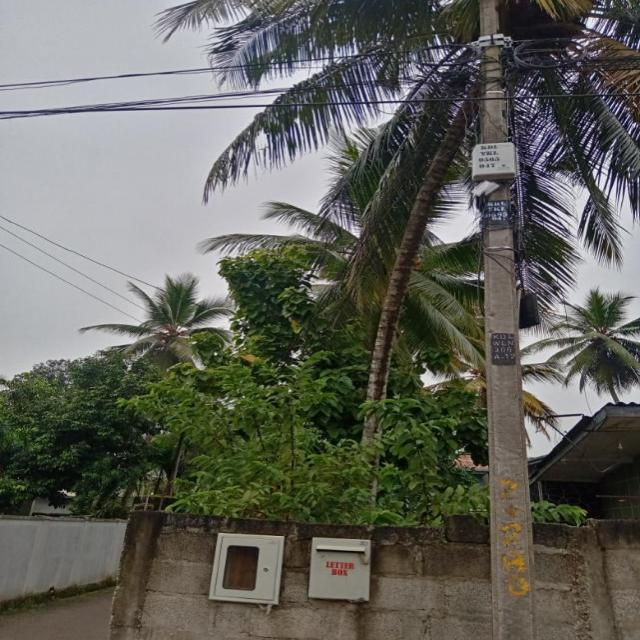light_pole: (461, 34, 555, 640)
